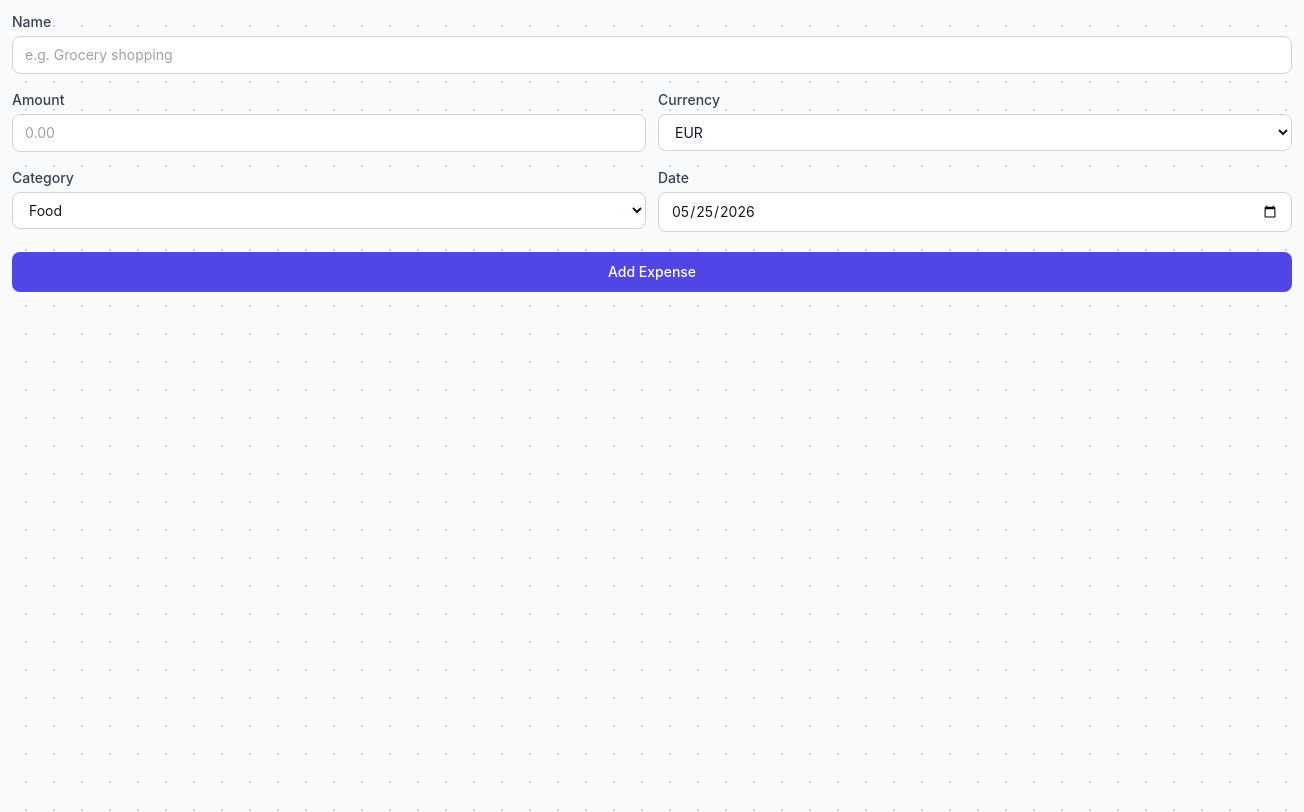
ExpenseForm › rejects zero amount
This screenshot has width=1304, height=812.
In the field with test id "expense-name-input": (652, 55) [12,36,1292,74], type "Test"
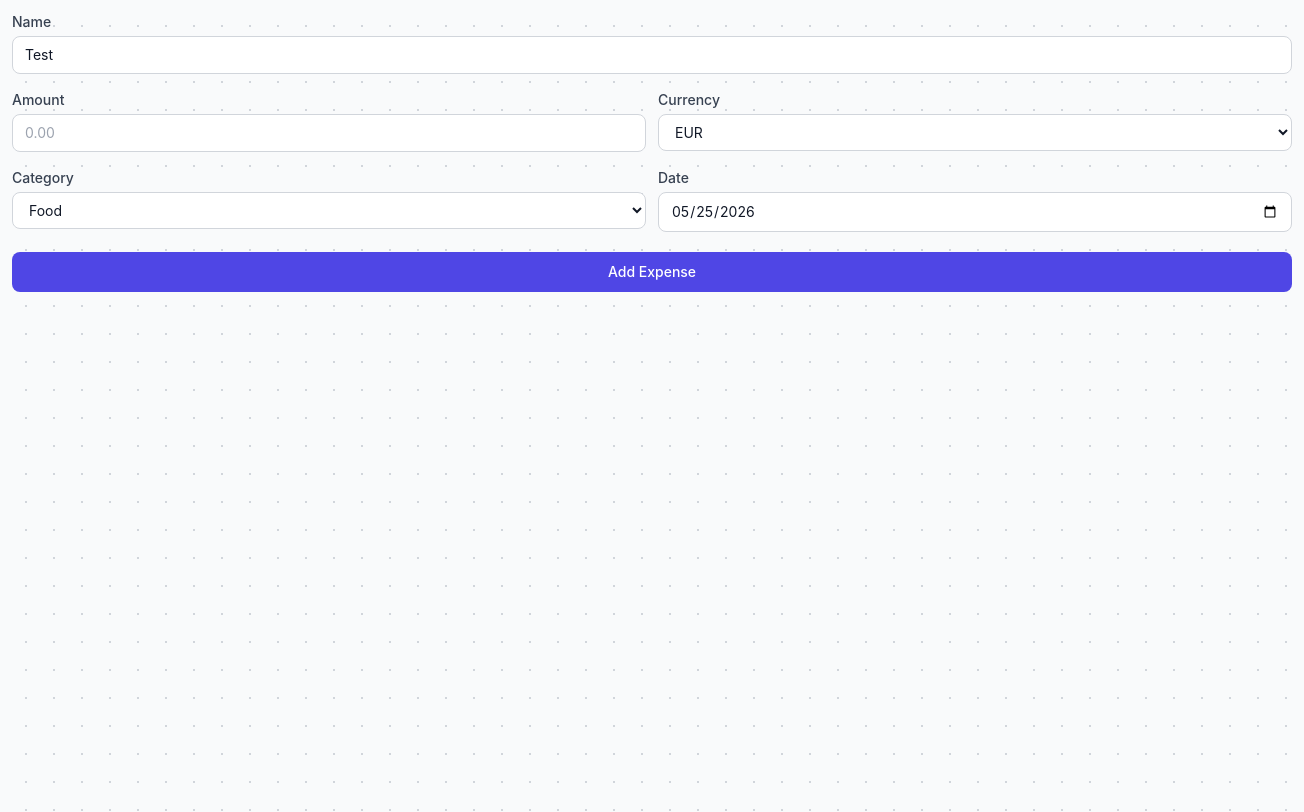
In the number field with test id "expense-amount-input": (329, 133) [12,114,646,152], type "0"
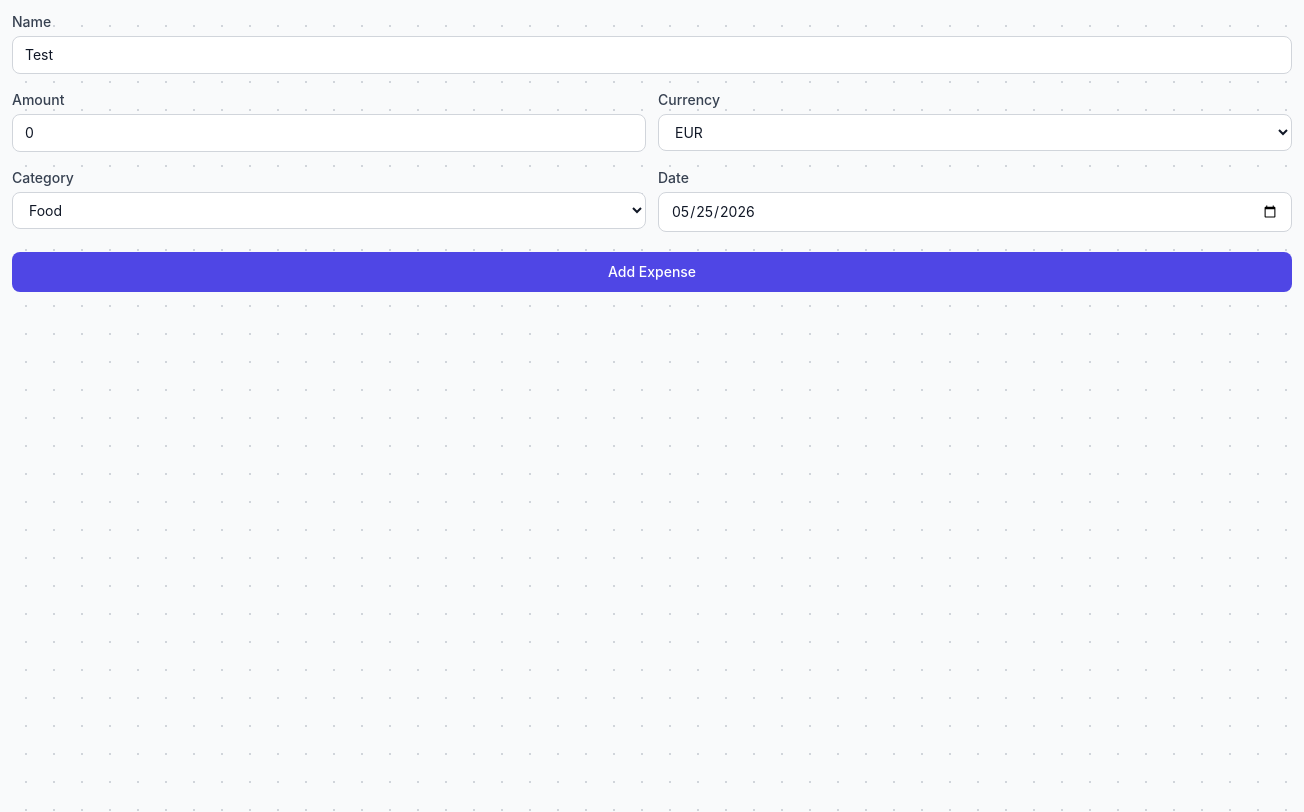
Click the button with test id "expense-submit-button": (652, 272) [12,252,1292,292]
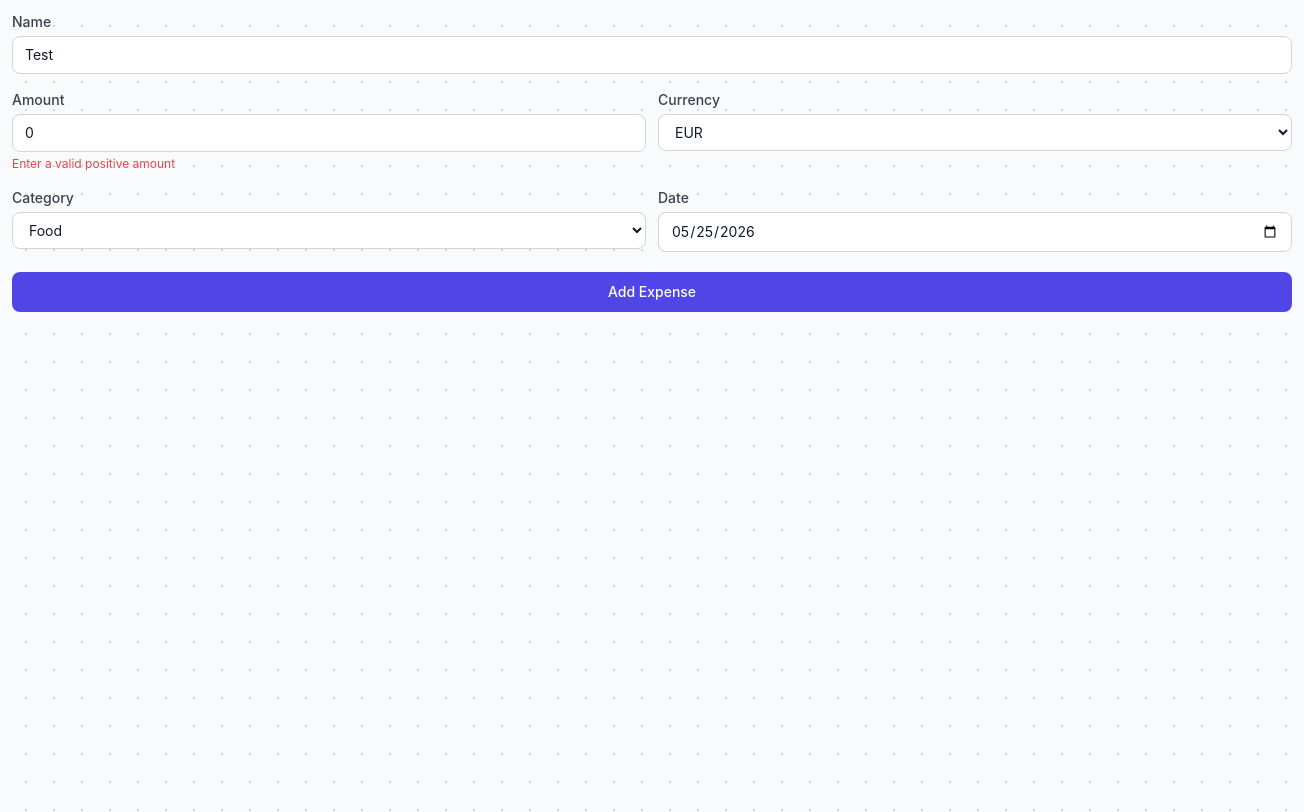
Result: the text "Enter a valid positive amount" is shown at [12,156,175,171]
